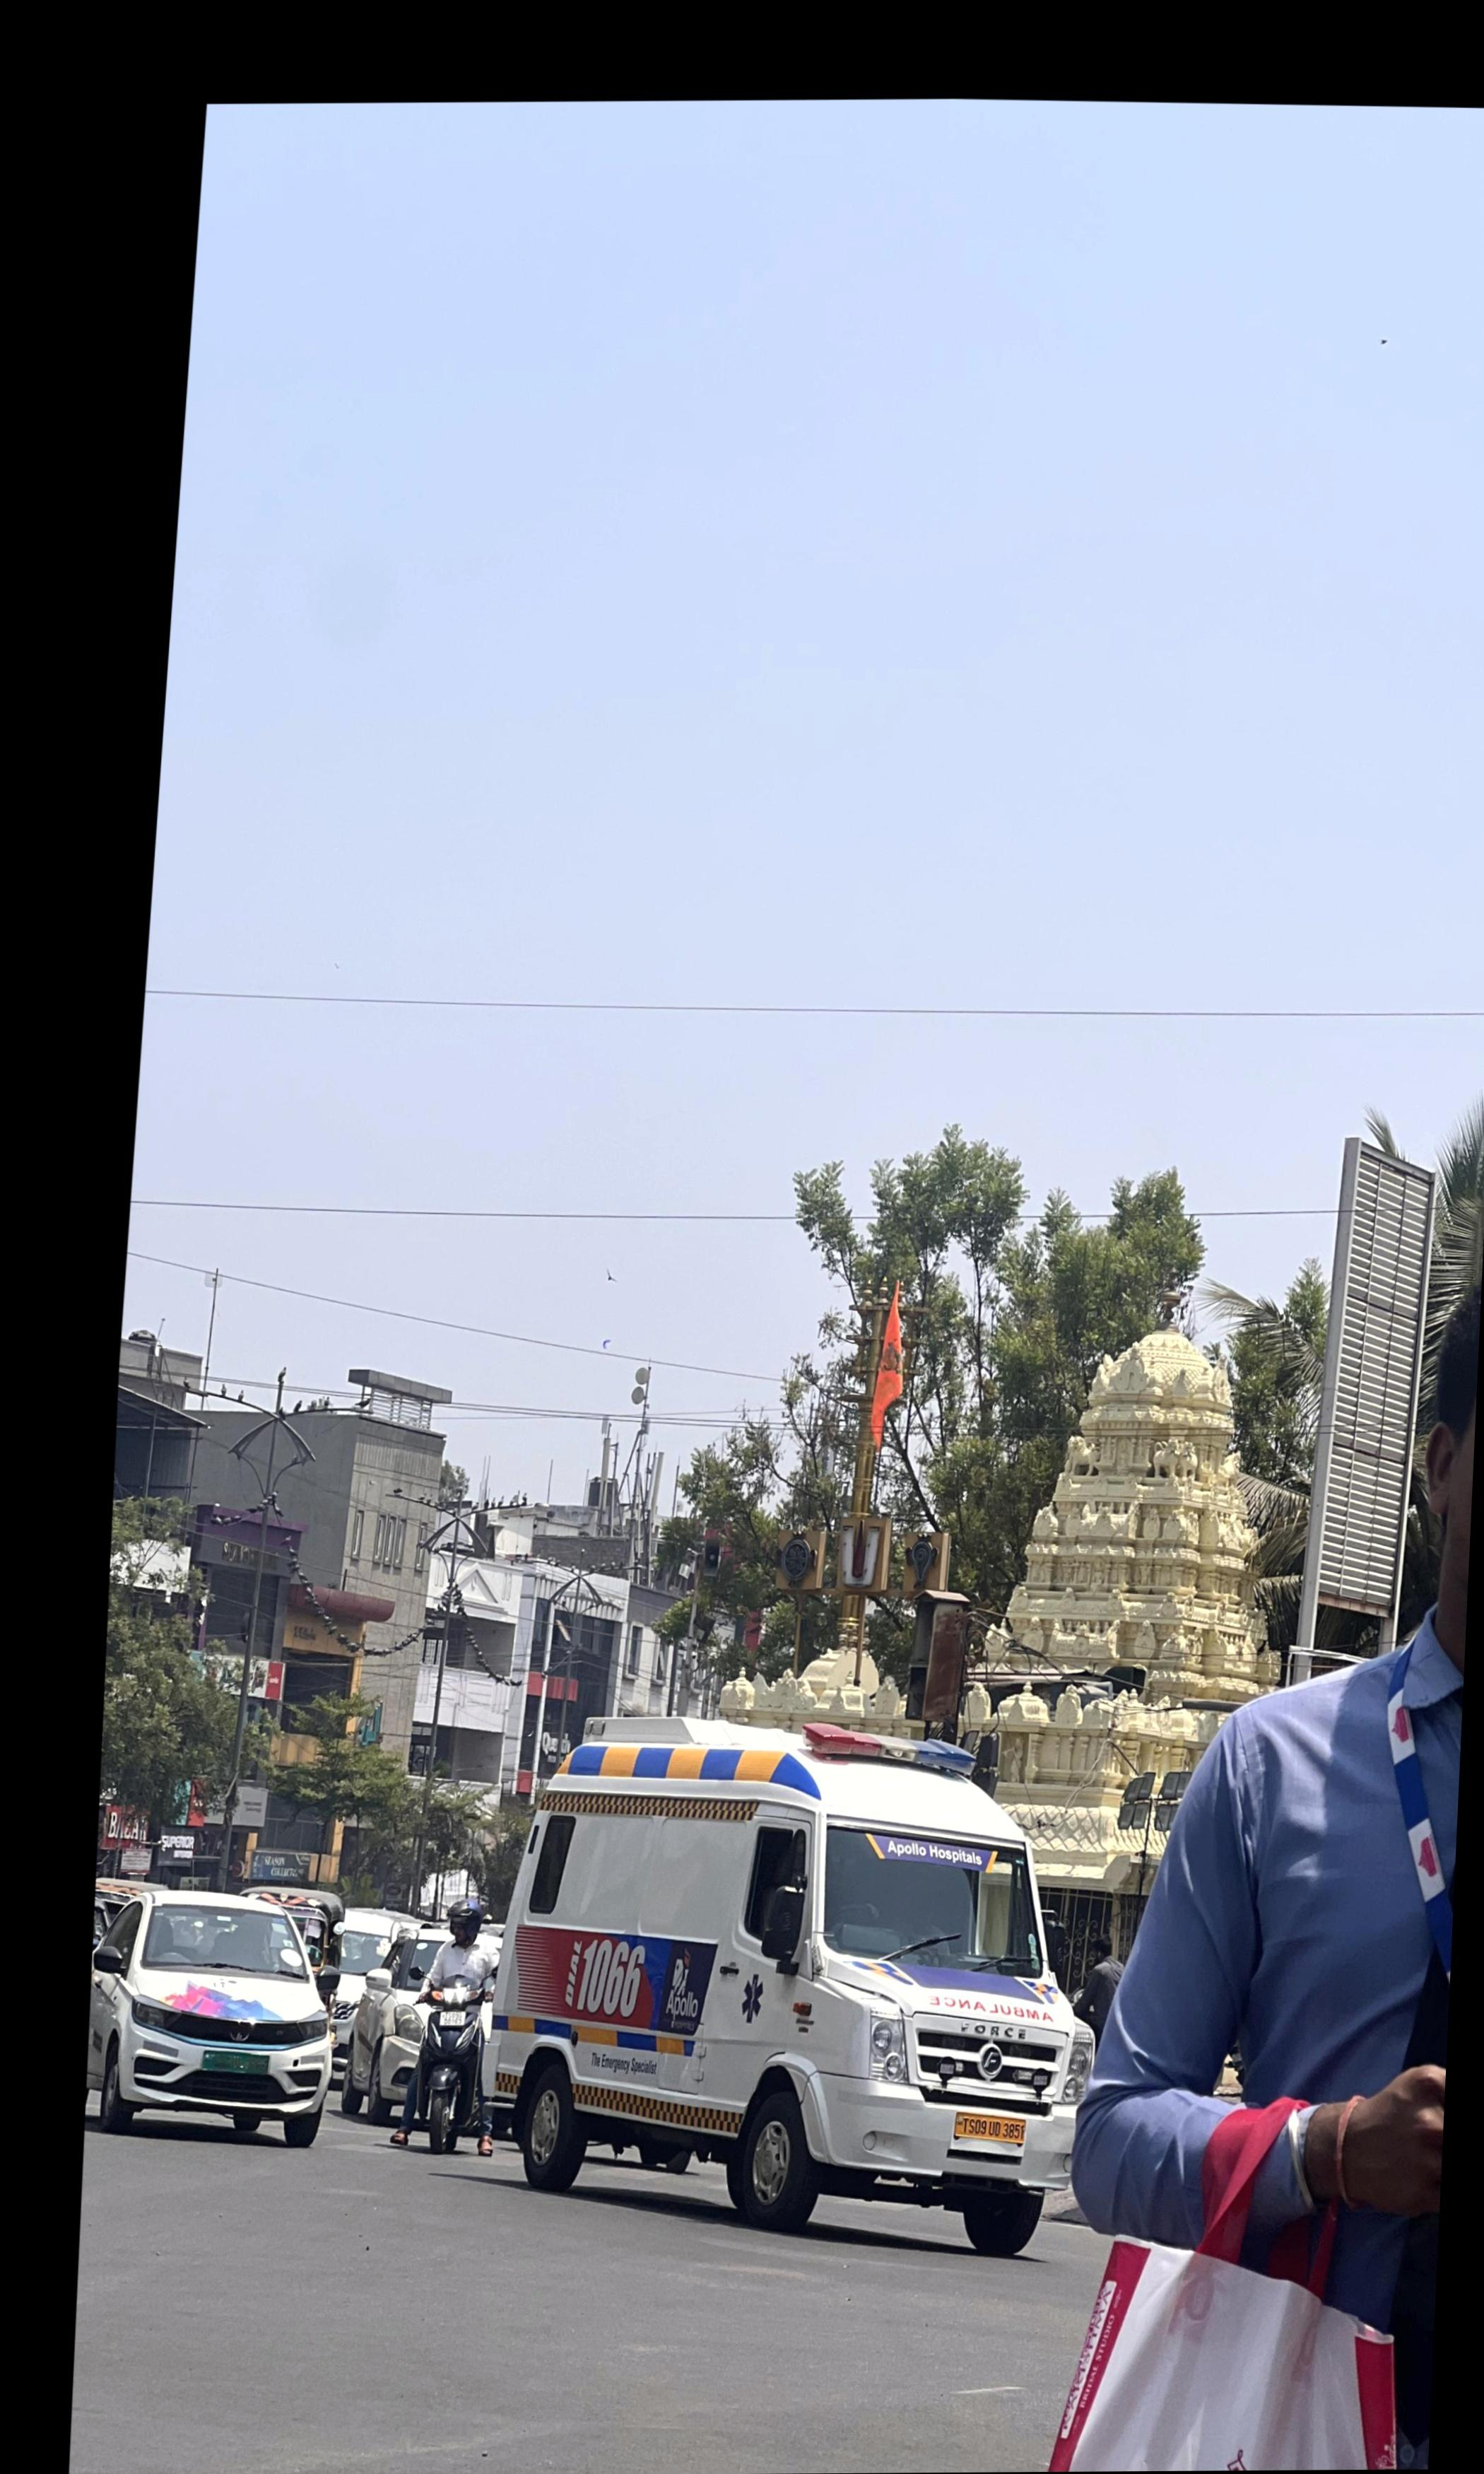ambulance: (482, 1718, 1094, 2262)
